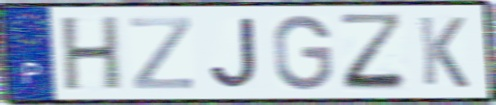G: (271, 13, 335, 93)
H: (60, 13, 123, 94)
J: (207, 15, 261, 91)
K: (416, 14, 472, 91)
Z: (336, 11, 411, 94), (128, 15, 196, 92)
